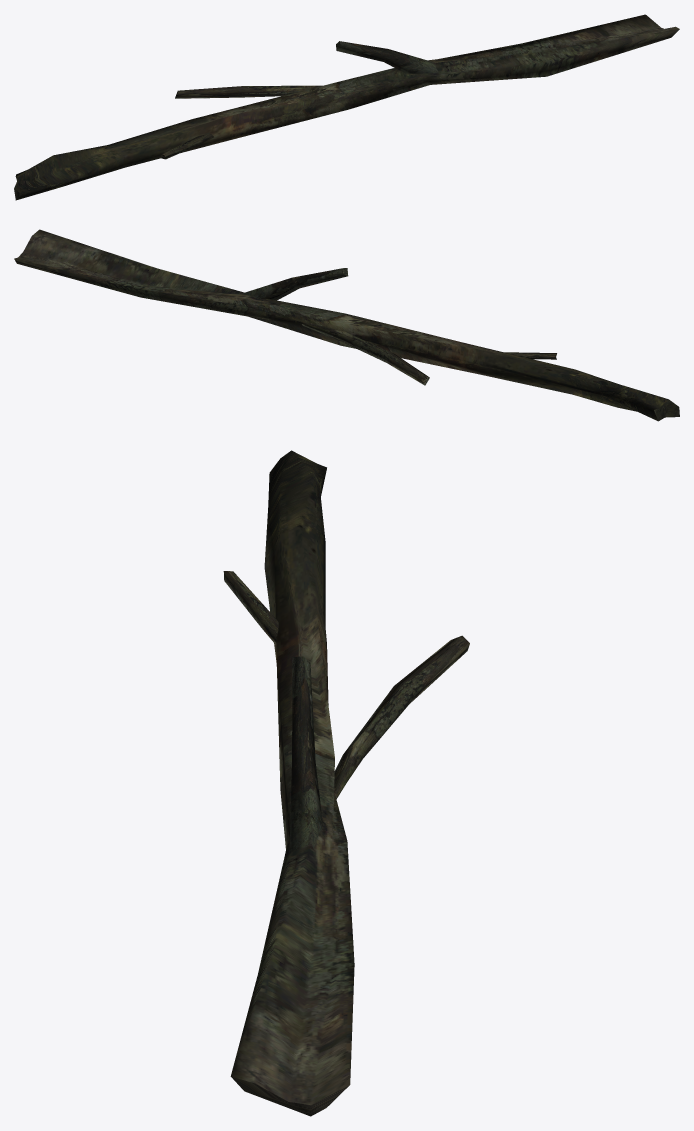
Rendered from prop_log_ad.FBX.
The picture shows the model from 3 angles, top to bottom: view 1: azimuth 30°, elevation 25°; view 2: azimuth 150°, elevation 25°; view 3: azimuth 270°, elevation 25°; orthographic projection. The views are drawn at different scales.
Visible parts, largest first — view 1: prop_log_ad; view 2: prop_log_ad; view 3: prop_log_ad.
Part boxes in pixels (x1,y1,x2,y2): prop_log_ad: (14,14,679,200); prop_log_ad: (14,229,679,421); prop_log_ad: (223,450,469,1116).
Bounding box in the file's own units: 3.4 × 0.5547 × 0.3721.
Materials: 1 (1 with a texture image).
